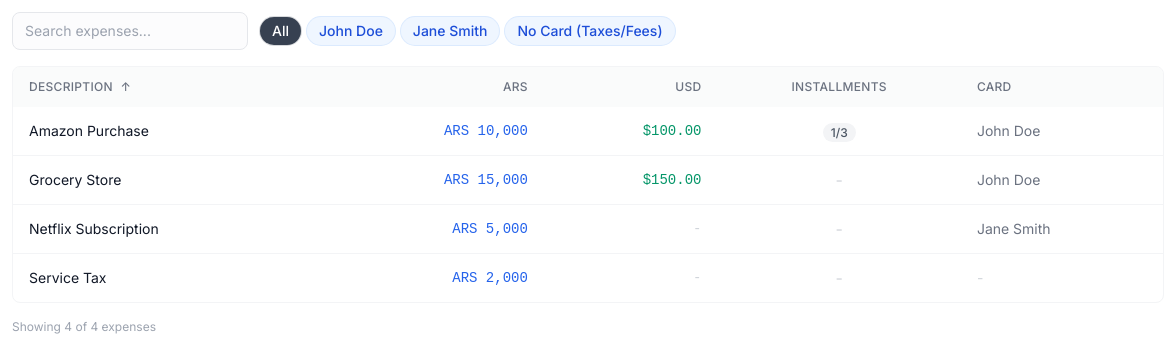
Scenario: ExpenseTable Component › Card Filtering › should filter expenses with no card
The width and height of the screenshot is (1164, 351).
Click the button "No Card (Taxes/Fees)" at (590, 31), box [506,17,675,45]
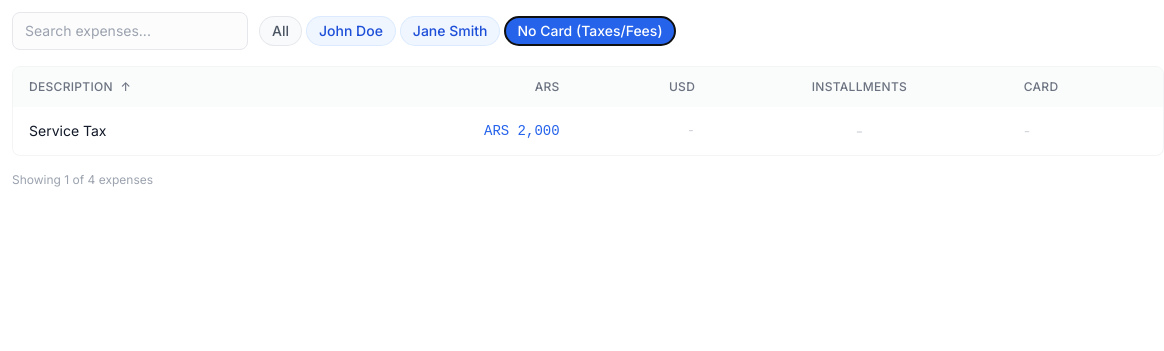
Expected: the text "Service Tax" is shown, [13,107,325,155]
Expected: the text "Amazon Purchase" is gone
Expected: the text "Showing 1 of 4 expenses" is shown, [12,172,153,187]
